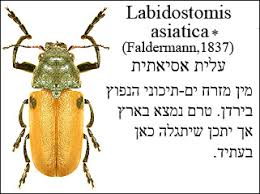Labidostomis_asiatica: (2, 3, 112, 192)
